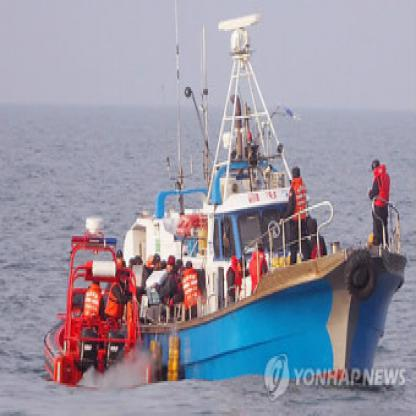fish-b: (42, 0, 414, 395)
